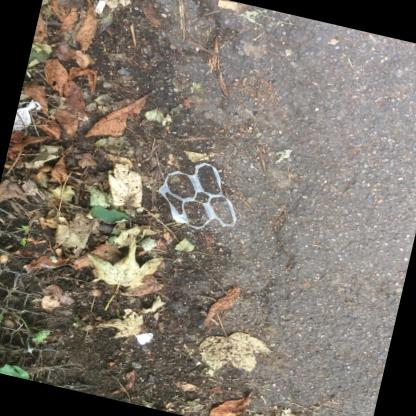Paper: (95, 0, 106, 13)
Plastic: (159, 162, 237, 229), (167, 172, 195, 198), (197, 164, 221, 194)
Waste: (13, 100, 41, 131)
